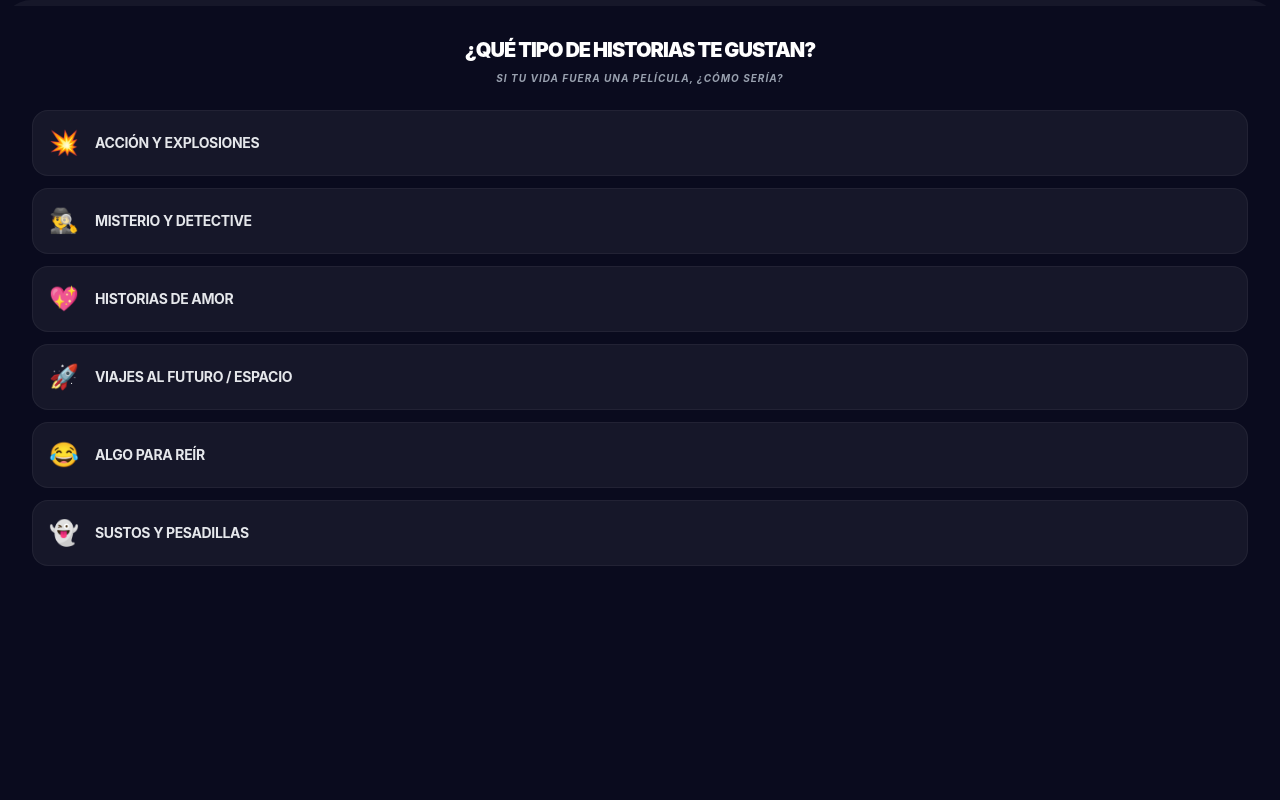
ProfileForm Component › moves to the next step when an option is selected
The width and height of the screenshot is (1280, 800).
What coordinates should you click on to do the following:
click the text "Acción y Explosiones"
I would click on:
 (177, 143)
Its box is [95,133,259,153].
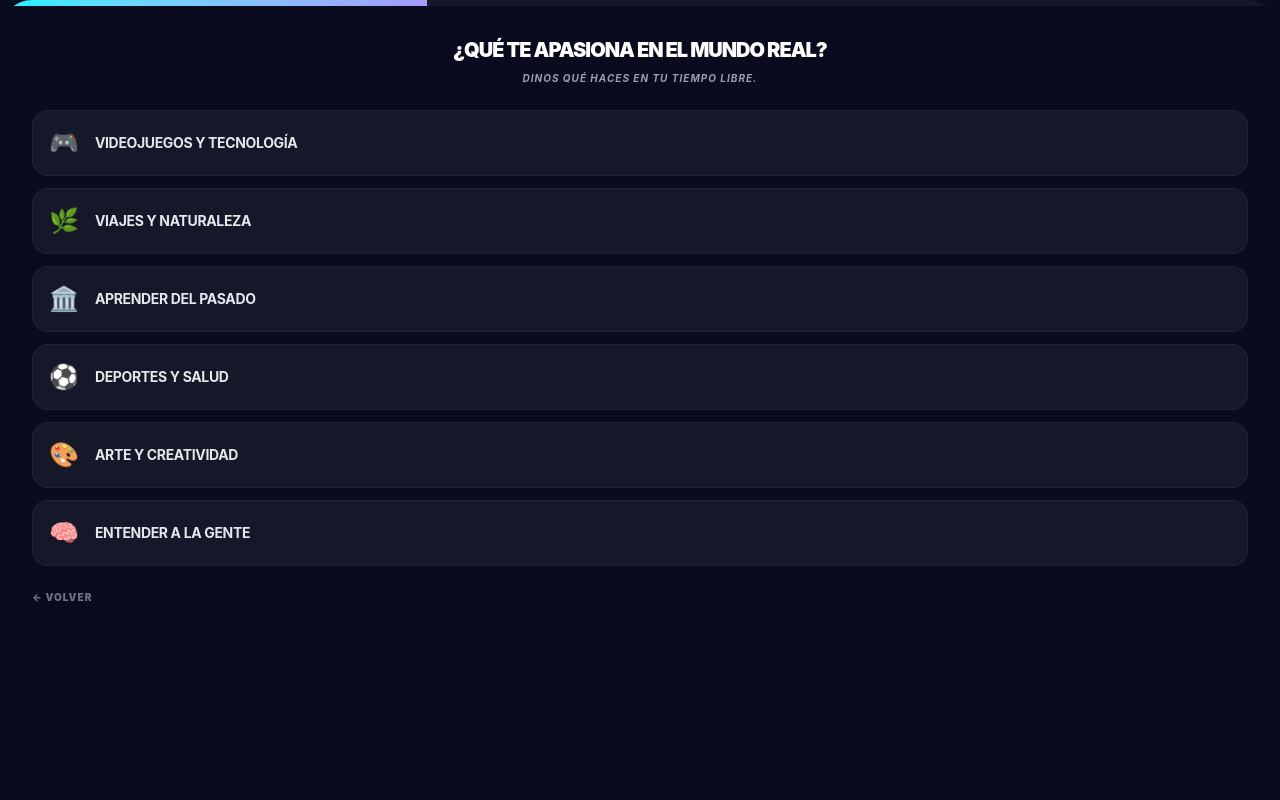
Check: the heading "¿Qué te apasiona en el mundo real?" is shown, box [453,38,827,62]
